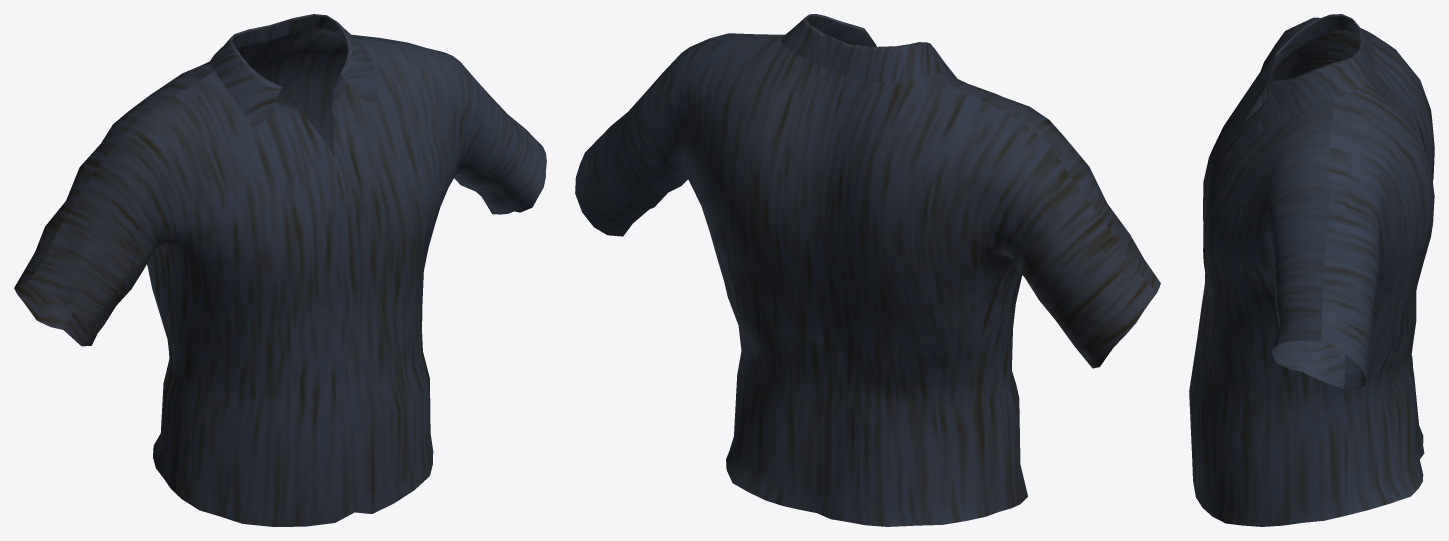
Rendered from SL_XLM.dae.
3 views of the same model, side by side, from view 1: azimuth 30°, elevation 25°; view 2: azimuth 150°, elevation 25°; view 3: azimuth 270°, elevation 25° (orthographic). The views are drawn at different scales.
Parts seen in each view (by area): view 1: testxlm-shirt01.001; view 2: testxlm-shirt01.001; view 3: testxlm-shirt01.001.
Part boxes in pixels (<box>): testxlm-shirt01.001: <box>14,14,546,526</box>; testxlm-shirt01.001: <box>575,14,1160,526</box>; testxlm-shirt01.001: <box>1189,14,1434,526</box>.
Size of the model in its own units: 7.44 by 6.05 by 2.99.
